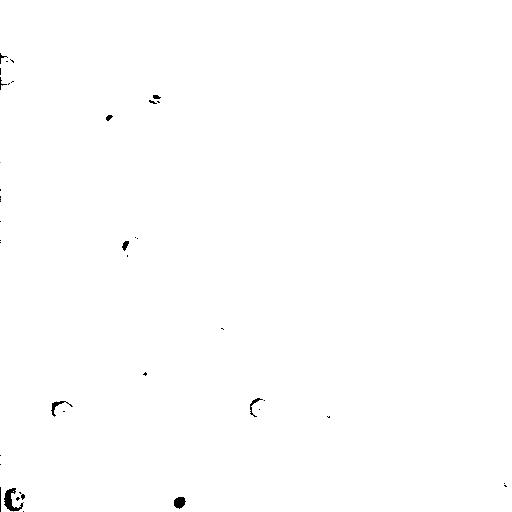micro-algae: (158, 482, 200, 512), (1, 483, 34, 511), (99, 106, 126, 136), (115, 234, 144, 260), (489, 474, 512, 501), (1, 53, 19, 83), (247, 392, 269, 416), (53, 400, 73, 424), (139, 363, 157, 389)
